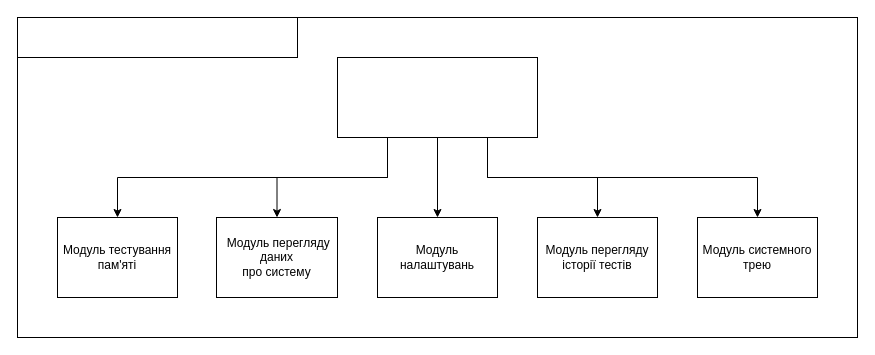
Some shapes in this 875 by 355 pixel diagram are drawn without their labels. The centre of each missing label's shape, as x and y in pixels:
"Модуль графічного інтерфейсу" goes at point 437,97.
"Утиліта тестуваня кешу та оперативної пам'яті" goes at point 157,37.
